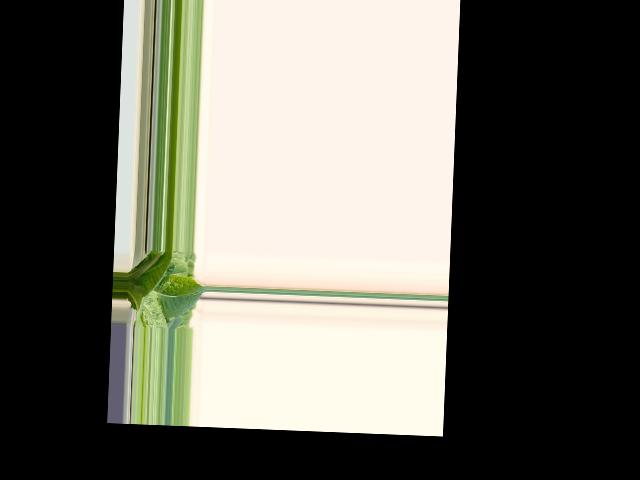lettuce: (125, 250, 199, 322)
